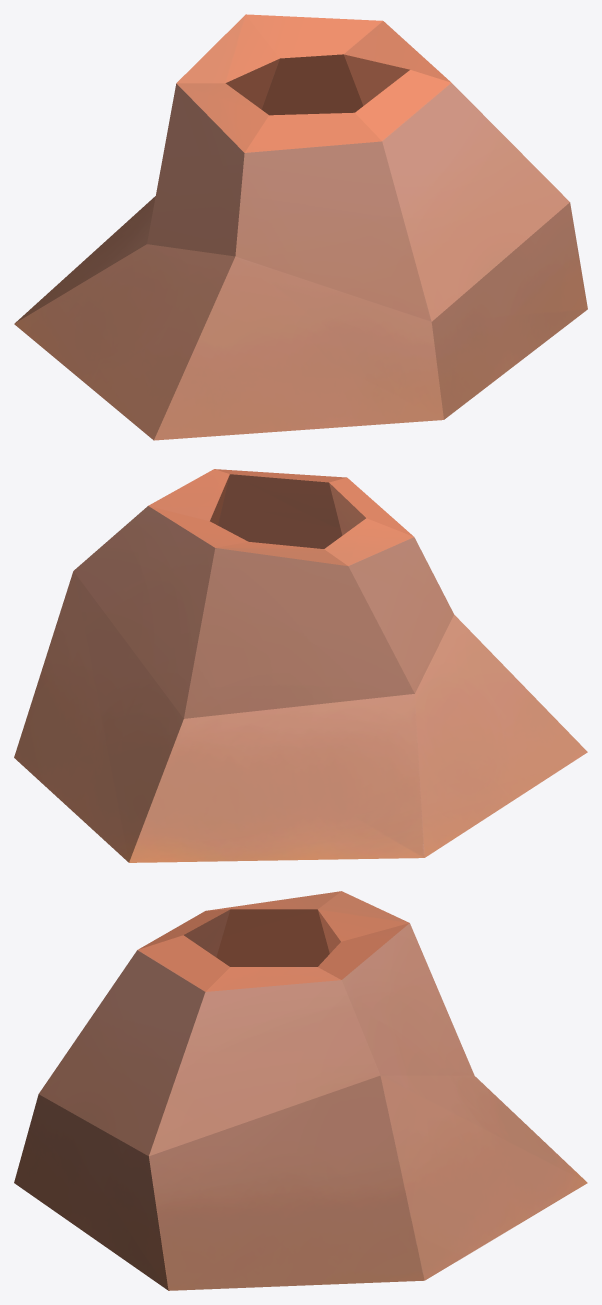
File: vulcao-2.fbx
3 renders of one model, top to bottom at view 1: azimuth 30°, elevation 25°; view 2: azimuth 150°, elevation 25°; view 3: azimuth 270°, elevation 25°, orthographic. The views are drawn at different scales.
Parts seen in each view (by area): view 1: vulcao-2; view 2: vulcao-2; view 3: vulcao-2.
Boxes of the visible parts, x1,y1,x2,y2 form: vulcao-2: [14, 14, 587, 440]; vulcao-2: [14, 469, 587, 862]; vulcao-2: [14, 891, 587, 1290].
Bounding box in the file's own units: 428 × 231 × 463.
